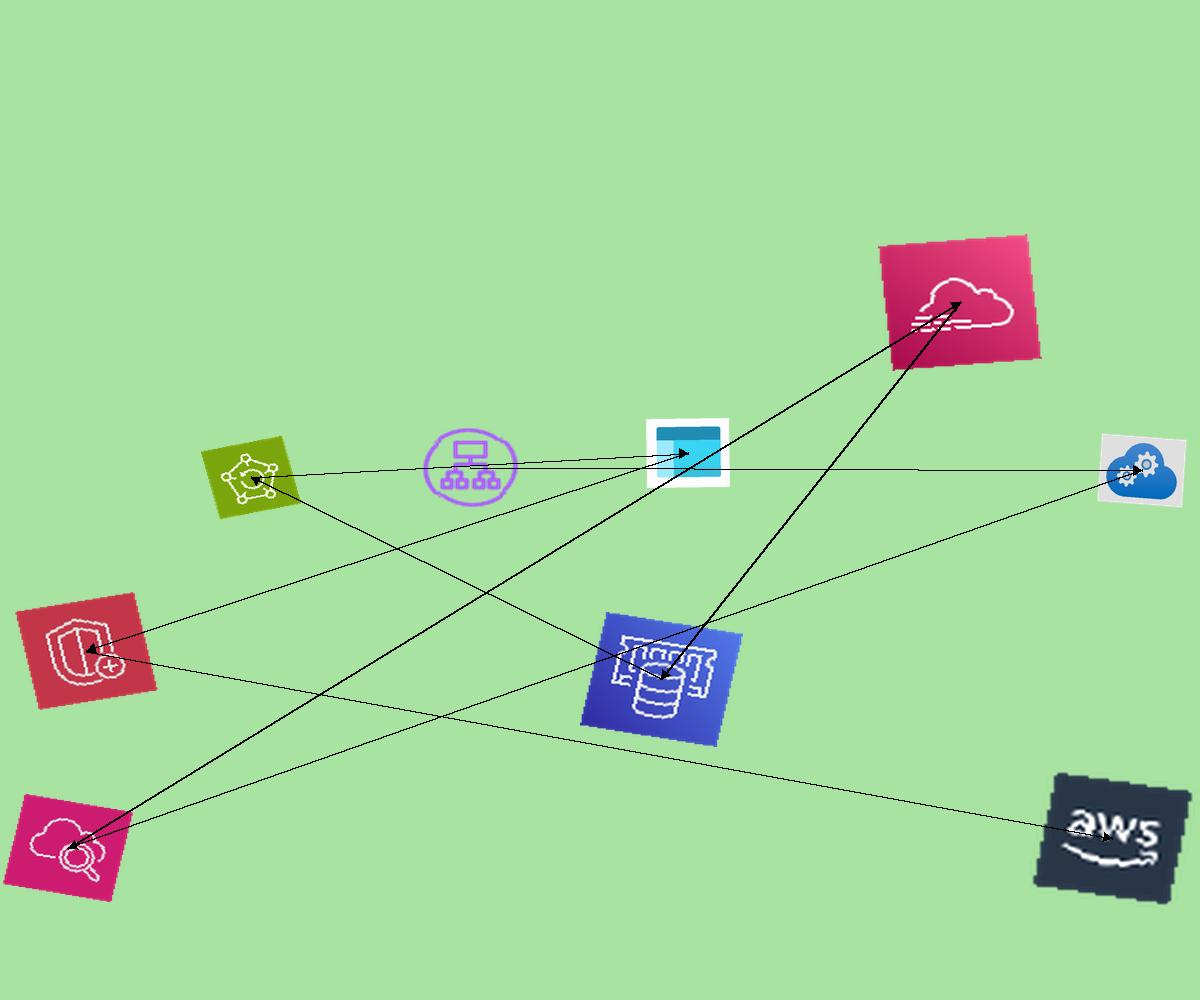AWS-Backup: (200, 435, 302, 520)
AWS-Cloud-logo: (1030, 770, 1195, 907)
AWS-CloudTrail: (878, 234, 1042, 371)
AWS-CloudWatch: (2, 793, 134, 903)
AWS-ElastiCache: (580, 612, 743, 747)
AWS-Res_Elastic-Load-Balancing_Application-Load-Balancer: (417, 423, 524, 512)
AWS-Shield: (14, 591, 159, 711)
Azure_cloud_services: (1097, 433, 1187, 508)
Azure_management-portal: (646, 418, 730, 488)
